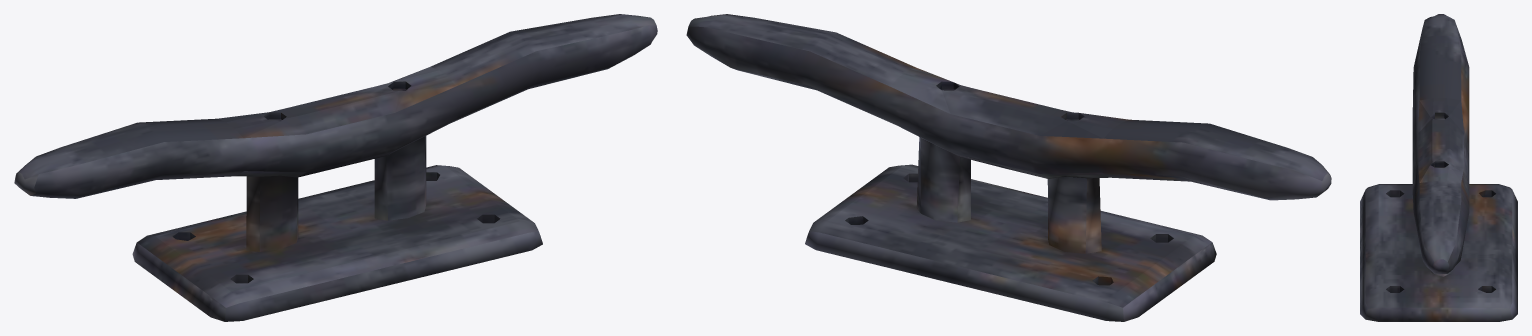
The model's file is cove-dock-cleat.lod0.glb.
The picture shows the model from 3 angles, left to right: view 1: azimuth 30°, elevation 25°; view 2: azimuth 150°, elevation 25°; view 3: azimuth 270°, elevation 25°; orthographic projection. The views are drawn at different scales.
Visible parts, largest first — view 1: Object_2; view 2: Object_2; view 3: Object_2.
Boxes of the visible parts, x1=… form: Object_2: x1=14, y1=14, x2=657, y2=321; Object_2: x1=686, y1=14, x2=1331, y2=321; Object_2: x1=1360, y1=14, x2=1517, y2=321.
Size of the model in its own units: 0.45 by 0.1109 by 0.121.
1 material, 1 textured.
